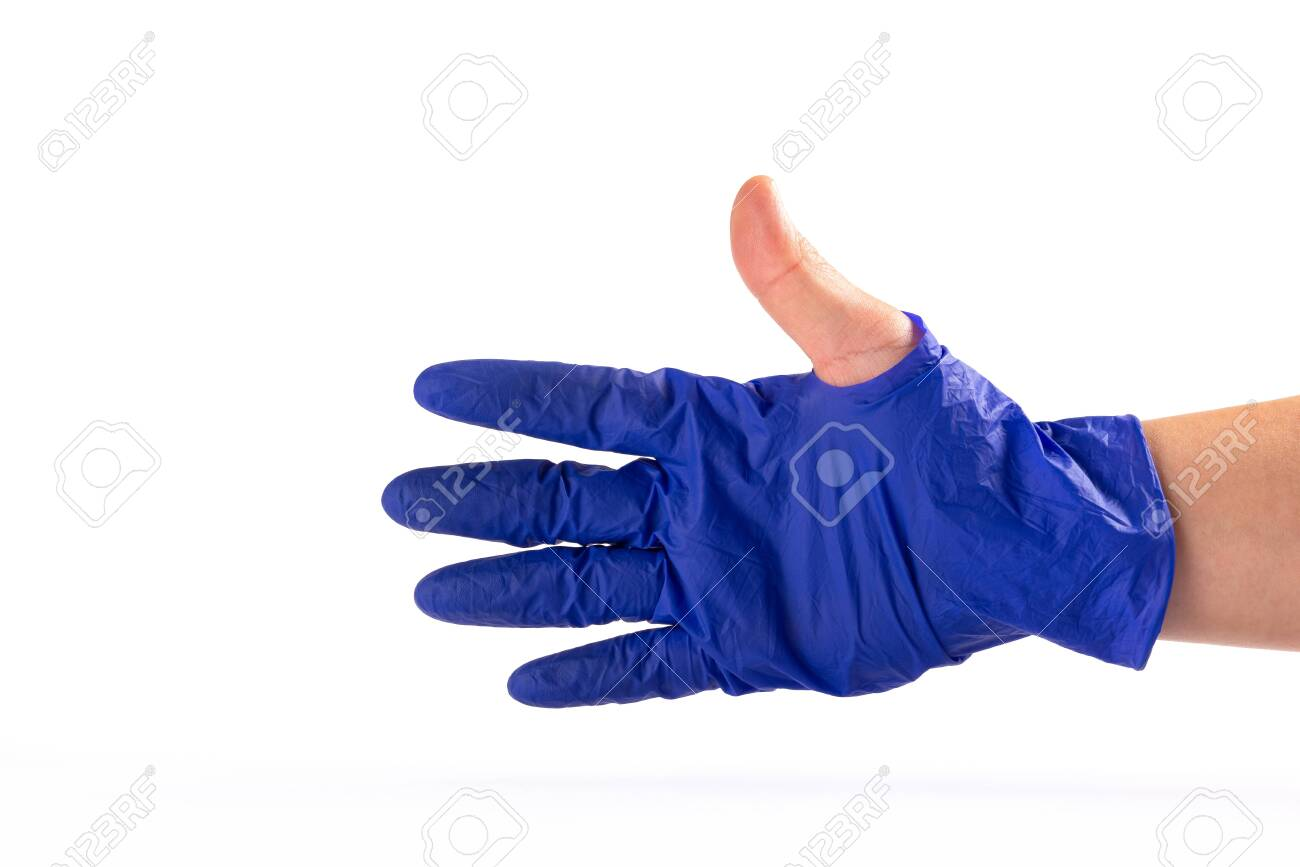defected: (361, 197, 1138, 742)
